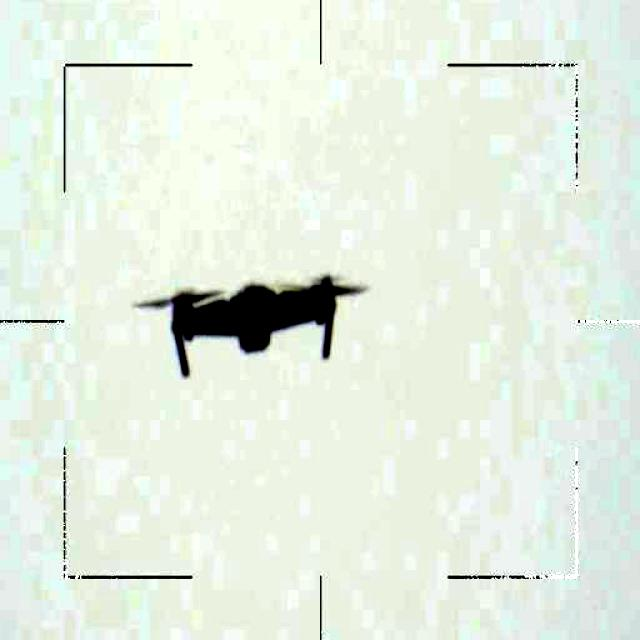bird: (128, 264, 370, 386)
